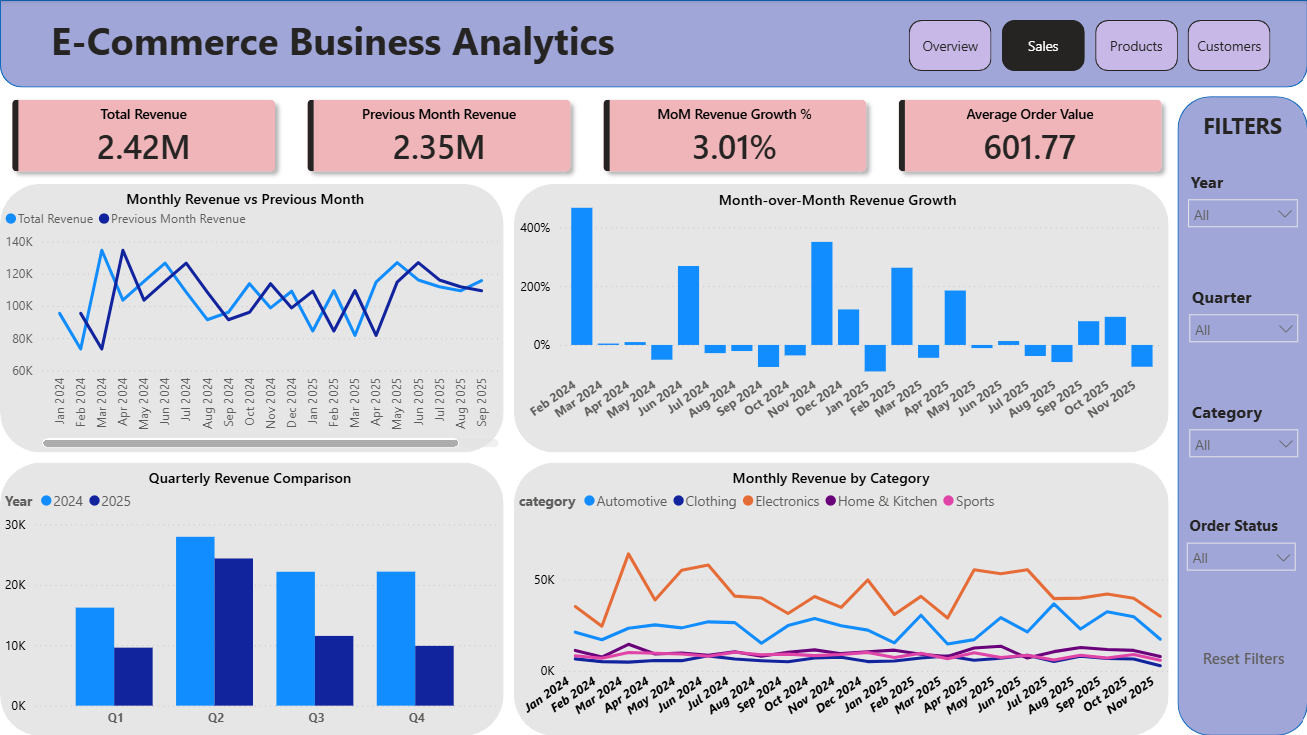

This screenshot's page, from the dashboard's own definition file:
{"tool":"powerbi","page":{"name":"Sales","canvas":[1280,720],"ordinal":1},"visuals":[{"type":"cardVisual","fields":{"Data":["Measures_Table.Total Revenue","Measures_Table.Previous Month Revenue","Measures_Table.MoM Revenue Growth %","Measures_Table.Average Order Value"]},"box":[0,85.6,1151.9,94.2],"z":0},{"type":"shape","box":[0,0,1280.3,85.6],"z":1000},{"type":"textbox","box":[0,8.6,640.8,72.1],"z":2000},{"type":"pageNavigator","box":[889,19.6,357.1,50.1],"z":3000},{"type":"shape","box":[1151.4,94.3,128.6,625.7],"z":4000},{"type":"slicer","fields":{"Values":["Date.Year"]},"box":[1152.5,161.2,127.5,83.8],"z":5000},{"type":"slicer","fields":{"Values":["Date.Quarter"]},"box":[1152.9,274.3,127.1,82.9],"z":6000},{"type":"slicer","fields":{"Values":["products.category"]},"box":[1152.9,386.5,127.1,82.9],"z":7000},{"type":"slicer","fields":{"Values":["orders.order_status"]},"box":[1151.2,498.8,127.1,82.9],"z":8000},{"type":"textbox","box":[1152.5,102.5,127.5,45],"z":9000},{"type":"actionButton","title":"Reset Filters","box":[1166.2,623.8,100,40],"z":10000},{"type":"shape","box":[0,179.8,492.8,262.9],"z":11000},{"type":"lineChart","fields":{"Category":["Date.Month Year Short"],"Y":["Measures_Table.Total Revenue","Measures_Table.Previous Month Revenue"]},"box":[0,194.4,492.8,248.2],"z":12000},{"type":"shape","box":[502.6,179.8,640.8,262.9],"z":13000},{"type":"clusteredColumnChart","fields":{"Y":["Measures_Table.MoM Revenue Growth %"],"Category":["Date.Month Year Short"]},"box":[502.6,179.8,640.8,250.7],"z":14000},{"type":"shape","box":[0,452.4,492.8,267.8],"z":15000},{"type":"clusteredColumnChart","fields":{"Y":["Measures_Table.Total Revenue"],"Series":["Date.Year"],"Category":["Date.Quarter"]},"box":[0,469.6,491.6,250.7],"z":16000},{"type":"shape","box":[502.6,452.4,640.8,267.8],"z":17000},{"type":"lineChart","fields":{"Y":["Measures_Table.Total Revenue"],"Category":["Date.Month Year Short"],"Series":["products.category"]},"box":[502.6,469.6,648.1,250.7],"z":18000},{"type":"textbox","box":[711.7,452.4,221.3,33],"z":19000},{"type":"textbox","box":[118.6,179.8,258,33],"z":20000},{"type":"textbox","box":[698.2,181,258,33],"z":21000},{"type":"textbox","box":[140.6,452.4,216.4,33],"z":22000}]}

Visuals, with their boxes in screenshot pixels (x1, y1, x2, y2), scaled from the page's 1280x720 canvas onto the 1307x735 screenshot:
cardVisual - Measures_Table.Total Revenue x Measures_Table.Previous Month Revenue: box(0, 87, 1176, 184)
shape: box(0, 0, 1306, 87)
textbox: box(0, 9, 654, 82)
pageNavigator: box(908, 20, 1272, 71)
shape: box(1176, 96, 1306, 734)
slicer - Date.Year: box(1177, 165, 1306, 250)
slicer - Date.Quarter: box(1177, 280, 1306, 365)
slicer - products.category: box(1177, 395, 1306, 479)
slicer - orders.order_status: box(1175, 509, 1305, 594)
textbox: box(1177, 105, 1306, 151)
"Reset Filters" actionButton: box(1191, 637, 1293, 678)
shape: box(0, 184, 503, 452)
lineChart - Date.Month Year Short x Measures_Table.Total Revenue: box(0, 198, 503, 452)
shape: box(513, 184, 1168, 452)
clusteredColumnChart - Measures_Table.MoM Revenue Growth % x Date.Month Year Short: box(513, 184, 1168, 439)
shape: box(0, 462, 503, 734)
clusteredColumnChart - Measures_Table.Total Revenue x Date.Year: box(0, 479, 502, 734)
shape: box(513, 462, 1168, 734)
lineChart - Measures_Table.Total Revenue x Date.Month Year Short: box(513, 479, 1175, 734)
textbox: box(727, 462, 953, 496)
textbox: box(121, 184, 385, 217)
textbox: box(713, 185, 976, 218)
textbox: box(144, 462, 365, 496)
